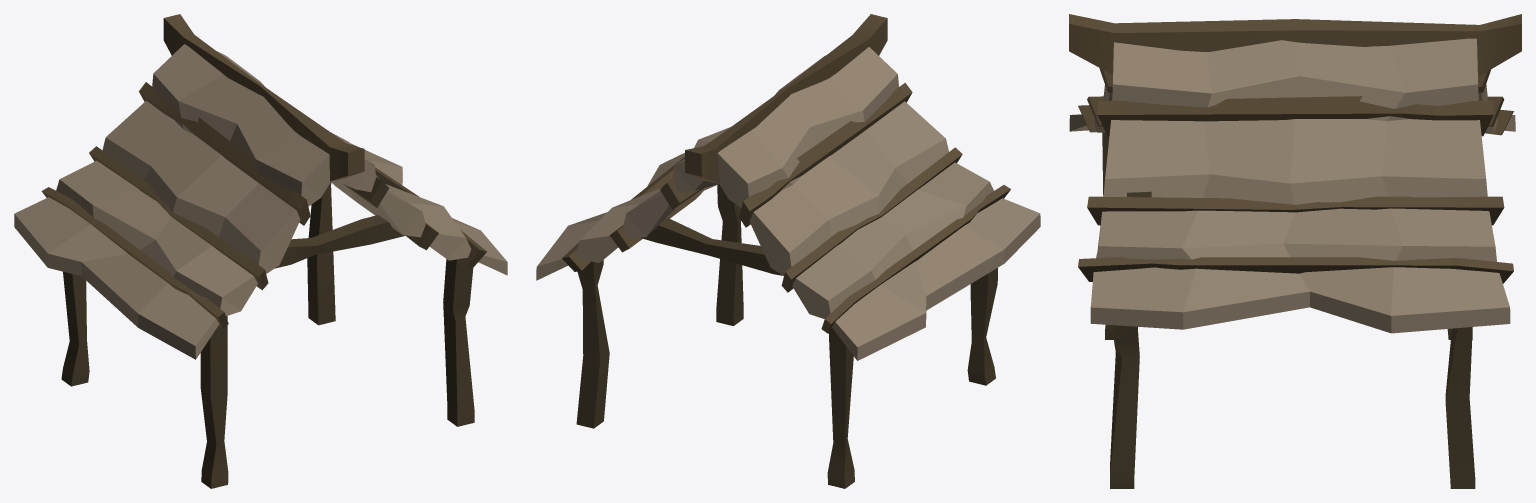
The model's file is SM_Bld_Rickety_House_02.glb.
3 views of the same model, side by side, from view 1: azimuth 30°, elevation 25°; view 2: azimuth 150°, elevation 25°; view 3: azimuth 270°, elevation 25° (orthographic). The views are drawn at different scales.
Parts seen in each view (by area): view 1: SM_Bld_Rickety_House_02; view 2: SM_Bld_Rickety_House_02; view 3: SM_Bld_Rickety_House_02.
Part boxes in pixels (<box>): SM_Bld_Rickety_House_02: <box>14,14,507,488</box>; SM_Bld_Rickety_House_02: <box>536,14,1040,488</box>; SM_Bld_Rickety_House_02: <box>1069,14,1521,488</box>.
Bounding box in the file's own units: 0.0362 × 0.0309 × 0.0326.
